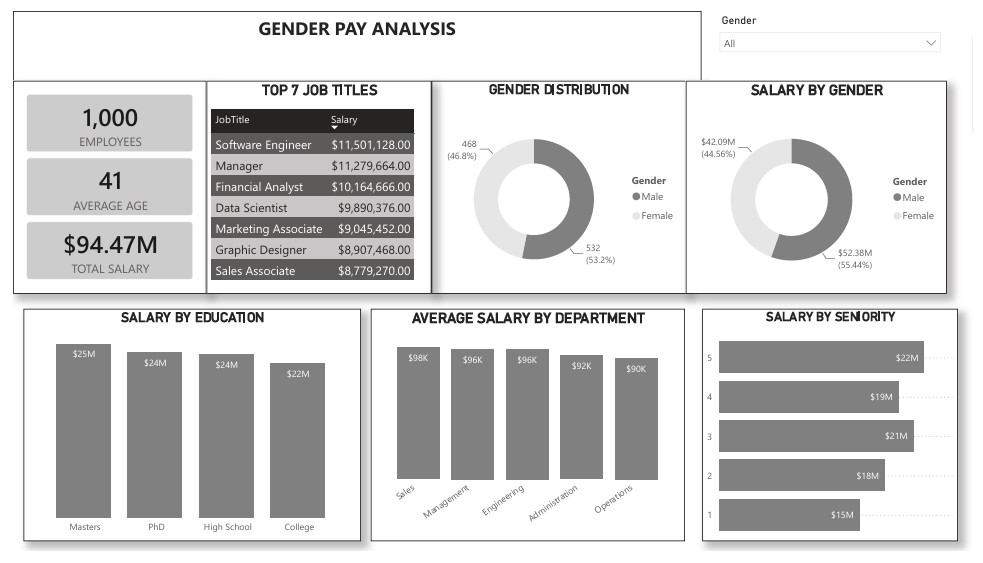

What the dashboard file says about the page in this screenshot:
{"tool":"powerbi","page":{"name":"Page 1","canvas":[1280,720],"ordinal":0},"visuals":[{"type":"textbox","box":[10.1,0,283.9,262],"z":0},{"type":"textbox","box":[0,0,918.3,93.3],"z":1000},{"type":"cardVisual","fields":{"Data":["CountNonNull(Table_1.EMP_ID)","Avg(Table_1.Age)","Sum(Table_1.BasePay)"]},"box":[0,93.3,258.3,283.3],"z":2000},{"type":"donutChart","title":"GENDER DISTRIBUTION","fields":{"Category":["Table_1.Gender"],"Y":["CountNonNull(Table_1.Gender)"]},"box":[558.3,93.3,338.3,283.3],"z":3000},{"type":"donutChart","title":"SALARY BY GENDER","fields":{"Category":["Table_1.Gender"],"Y":["Sum(Table_1.BasePay)"]},"box":[896.7,93.3,348.3,283.3],"z":4000},{"type":"clusteredColumnChart","title":"SALARY BY EDUCATION","fields":{"Y":["Sum(Table_1.BasePay)"],"Category":["Table_1.Education"]},"box":[14.4,397.4,449.3,309.6],"z":5000},{"type":"clusteredColumnChart","title":"AVERAGE SALARY BY DEPARTMENT","fields":{"Category":["Table_1.Dept"],"Y":["Avg(Table_1.BasePay)"]},"box":[476.6,397.4,419,309.6],"z":6000},{"type":"clusteredBarChart","title":"SALARY BY SENIORITY","fields":{"Category":["Table_1.Seniority"],"Y":["Sum(Table_1.BasePay)"]},"box":[919,397,341,310],"z":7000},{"type":"tableEx","title":"TOP 7 JOB TITLES","fields":{"Values":["Table_1.JobTitle","Sum(Table_1.BasePay)"]},"box":[258.3,93.3,300,283.3],"z":8000},{"type":"slicer","fields":{"Values":["Table_1.Gender"]},"box":[931.7,0,315,93.3],"z":9000}]}

Visuals, with their boxes in screenshot pixels (x1, y1, x2, y2), scaled from the page's 1280x720 canvas onto the 983x563 screenshot:
textbox: {"x1": 8, "y1": 0, "x2": 226, "y2": 205}
textbox: {"x1": 0, "y1": 0, "x2": 705, "y2": 73}
cardVisual - CountNonNull(Table_1.EMP_ID) x Avg(Table_1.Age): {"x1": 0, "y1": 73, "x2": 198, "y2": 294}
"GENDER DISTRIBUTION" donutChart: {"x1": 429, "y1": 73, "x2": 689, "y2": 294}
"SALARY BY GENDER" donutChart: {"x1": 689, "y1": 73, "x2": 956, "y2": 294}
"SALARY BY EDUCATION" clusteredColumnChart: {"x1": 11, "y1": 311, "x2": 356, "y2": 553}
"AVERAGE SALARY BY DEPARTMENT" clusteredColumnChart: {"x1": 366, "y1": 311, "x2": 688, "y2": 553}
"SALARY BY SENIORITY" clusteredBarChart: {"x1": 706, "y1": 310, "x2": 968, "y2": 553}
"TOP 7 JOB TITLES" tableEx: {"x1": 198, "y1": 73, "x2": 429, "y2": 294}
slicer - Table_1.Gender: {"x1": 716, "y1": 0, "x2": 957, "y2": 73}
